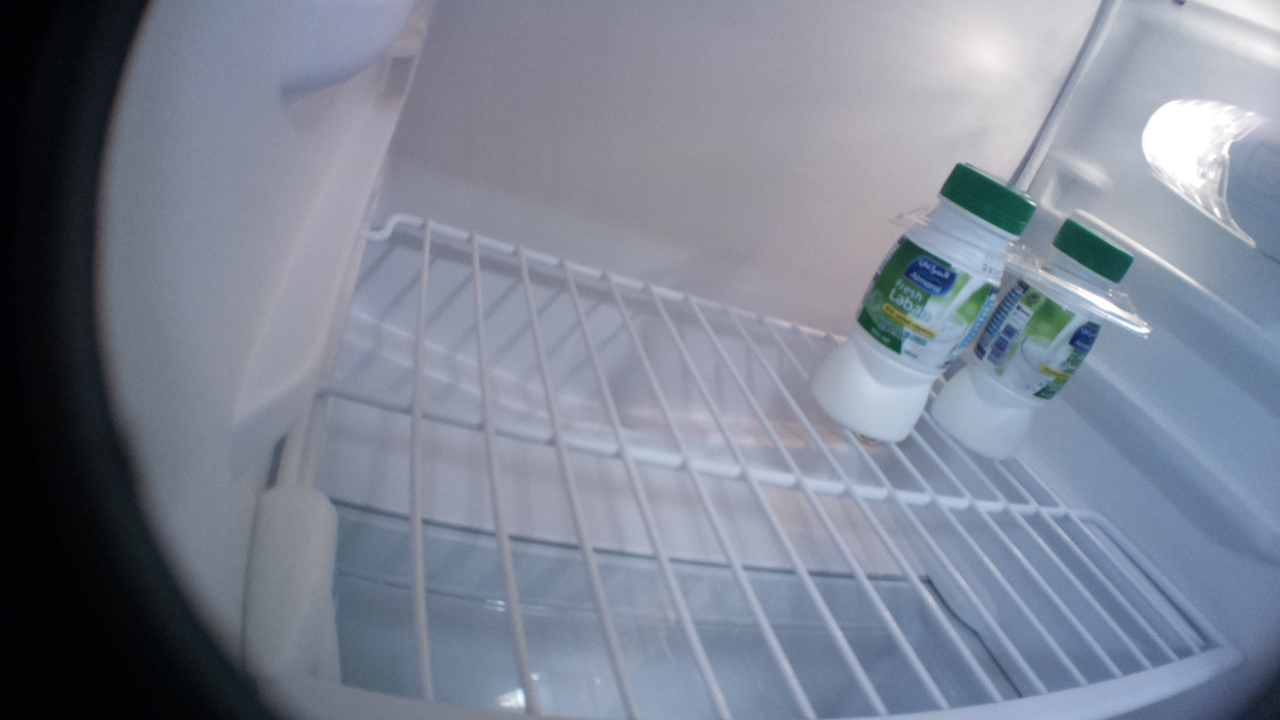laban: (812, 159, 1037, 443), (930, 216, 1134, 457)
